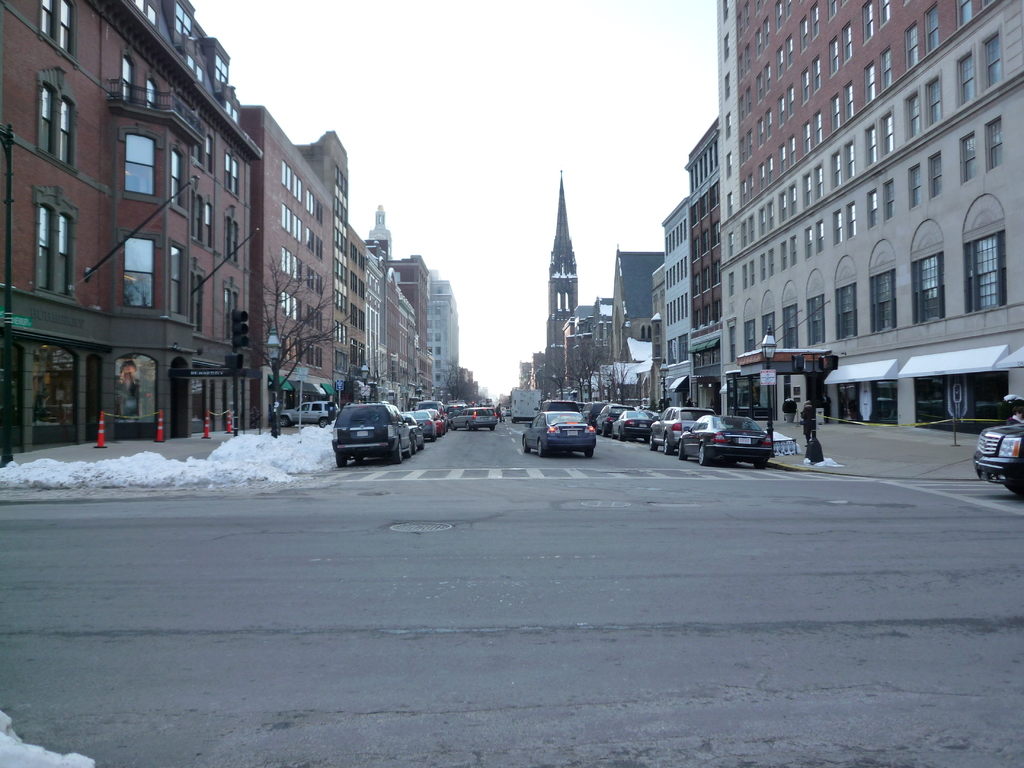Car: (598, 401, 776, 464), (334, 398, 448, 460), (675, 412, 778, 474), (972, 418, 1023, 504), (524, 414, 594, 454), (658, 401, 707, 455), (273, 396, 337, 437), (606, 401, 656, 447), (591, 390, 632, 442), (446, 399, 501, 434), (641, 401, 672, 452), (280, 402, 334, 426), (401, 410, 427, 451), (415, 402, 437, 443), (451, 408, 496, 428), (428, 402, 449, 439)
